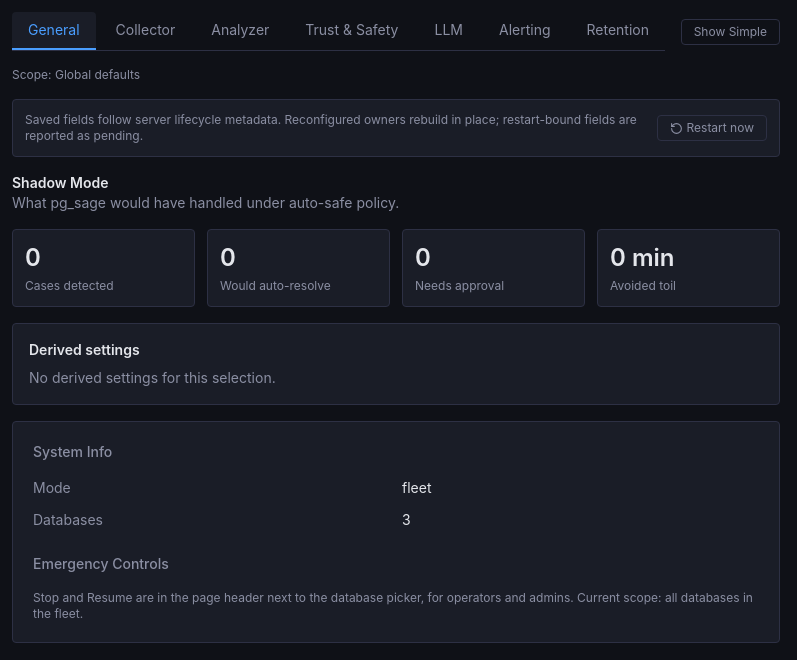
Test case: SettingsPage › does not render the shadow report over advanced setting tabs
Click the button with test id "settings-tab-retention" at (618, 31), box [570,12,665,50]
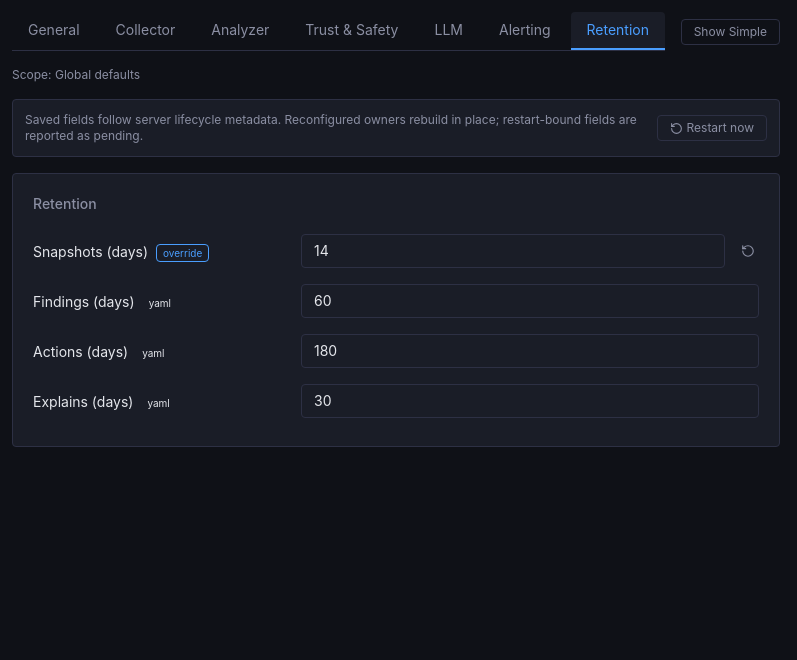
Expected: the text "Snapshots (days)" is shown, [33,243,148,260]
Expected: the number field with test id "setting-retention.snapshots_days" holds "14", [301,234,725,268]
Expected: the element with test id "shadow-mode-report" is gone
